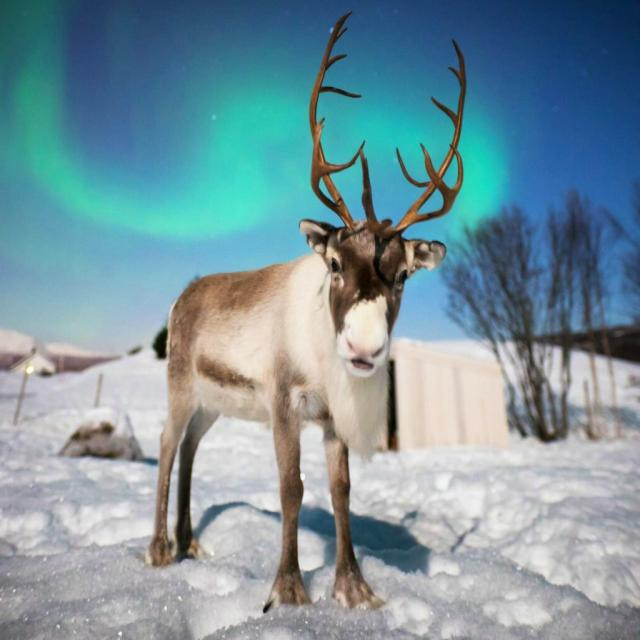reindeer: (148, 12, 466, 611)
